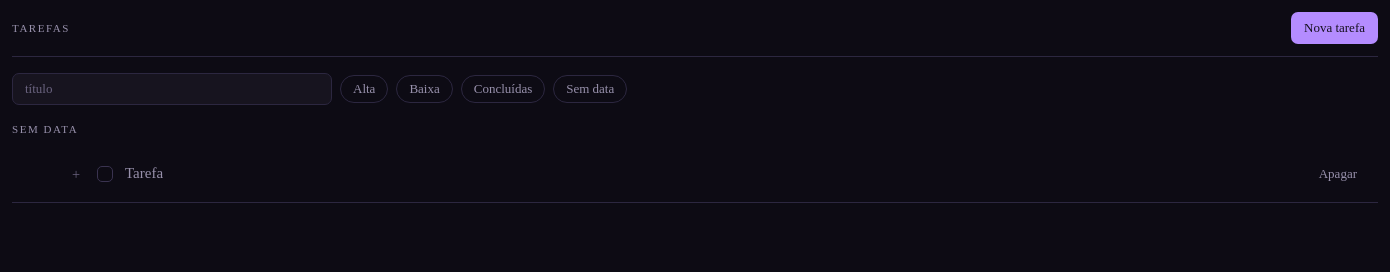
Test: TasksPanel › mostra o erro e recarrega para desfazer quando concluir falha
Click the checkbox named "concluir Tarefa": (105,174) [97,166,113,182]
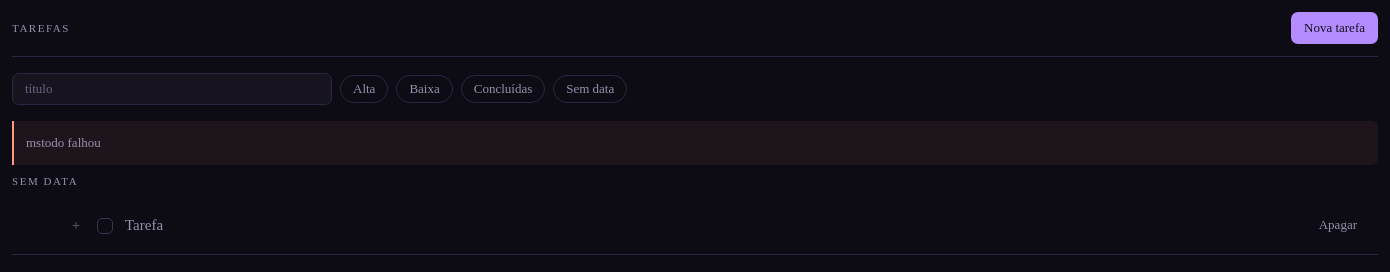
Now the message reads "mstodo falhou", box [26,135,101,150]
